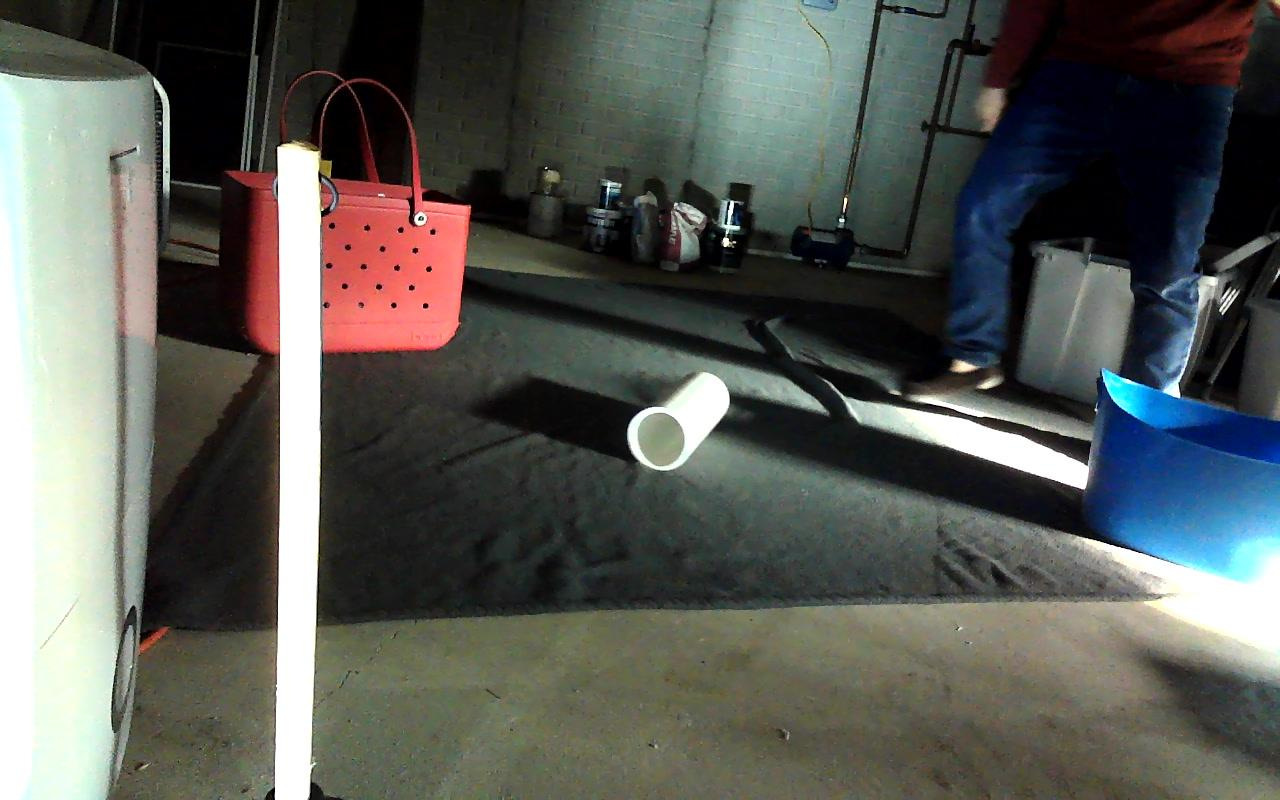coral: (627, 372, 729, 469)
